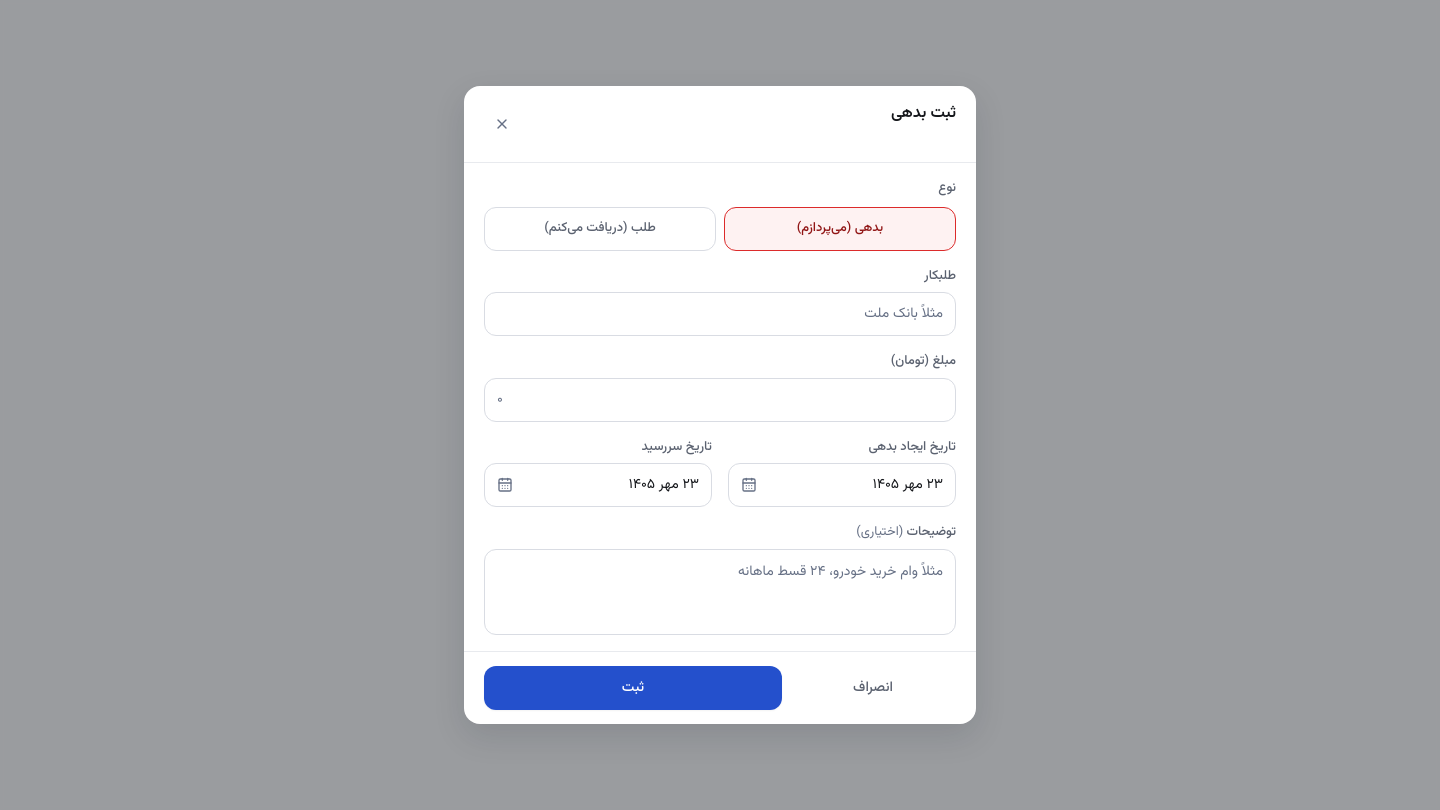
DebtForm › rejects a due date that precedes the issue date
The image size is (1440, 810).
Type "بانک ملت" into the field labelled "طلبکار". click: (720, 314)
box: [484,292,956,336]
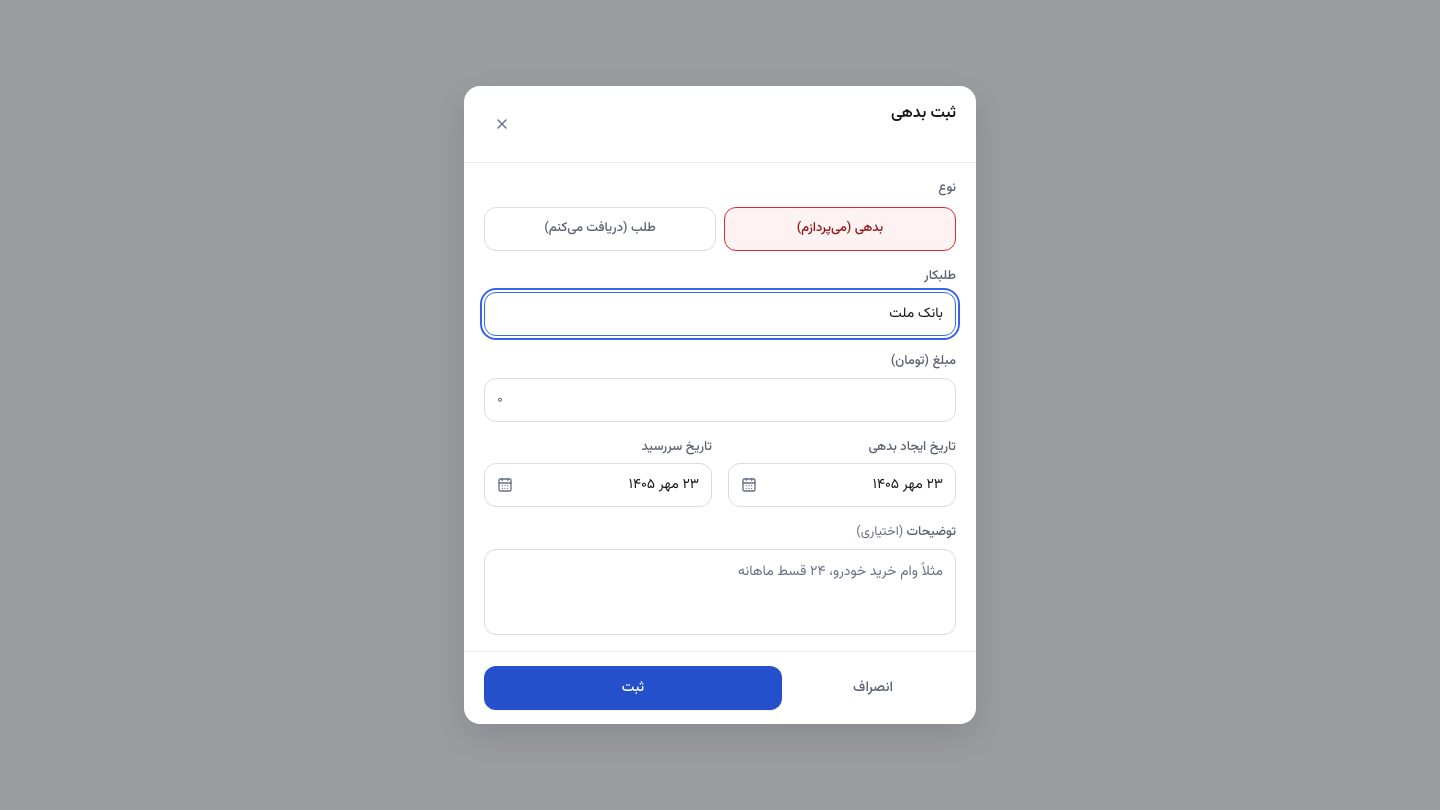
Type "5000000" into the field labelled "مبلغ (تومان)". click: (720, 400)
box: [484,378,956,422]
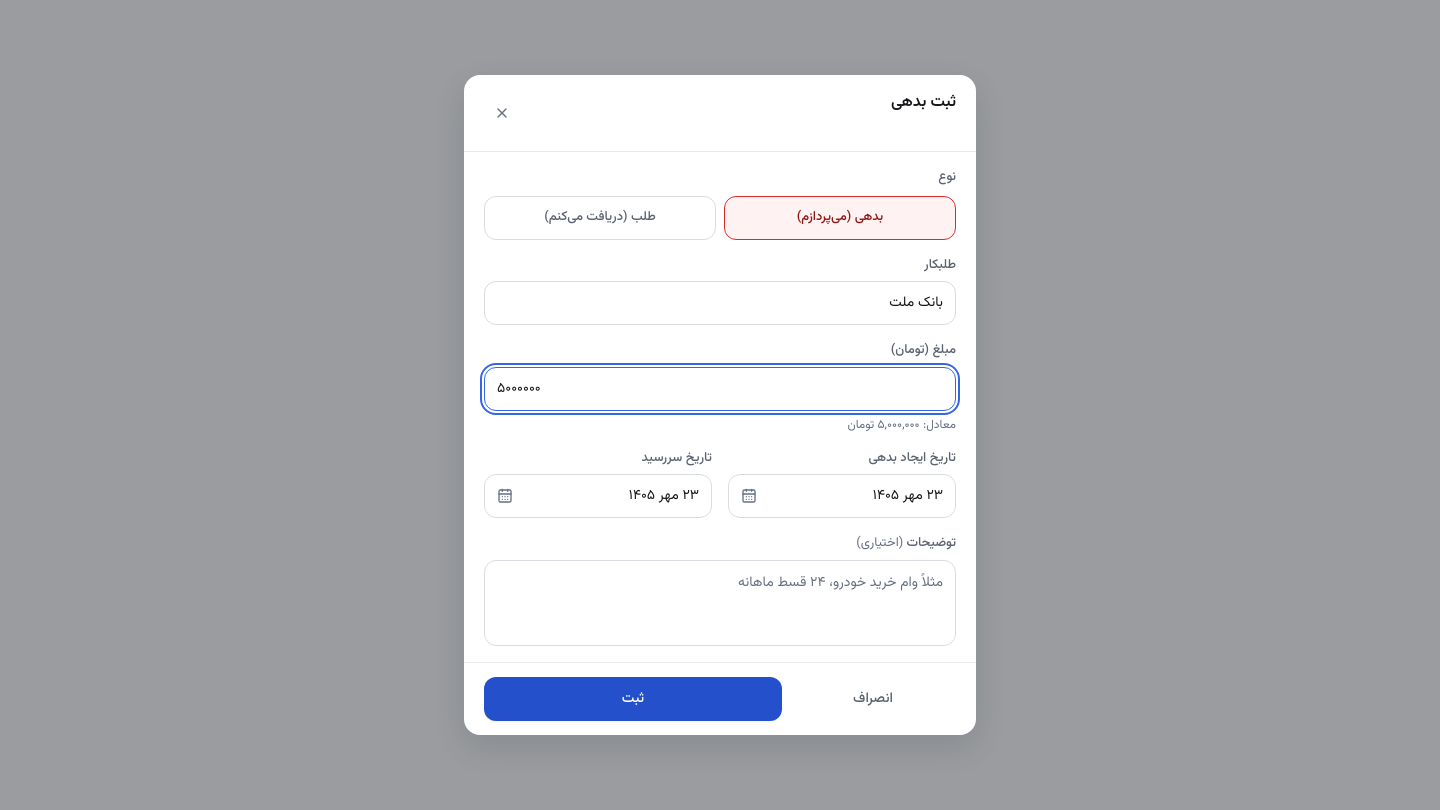
Click the button named "تاریخ سررسید". click: (598, 496)
box: [484,474,712,518]
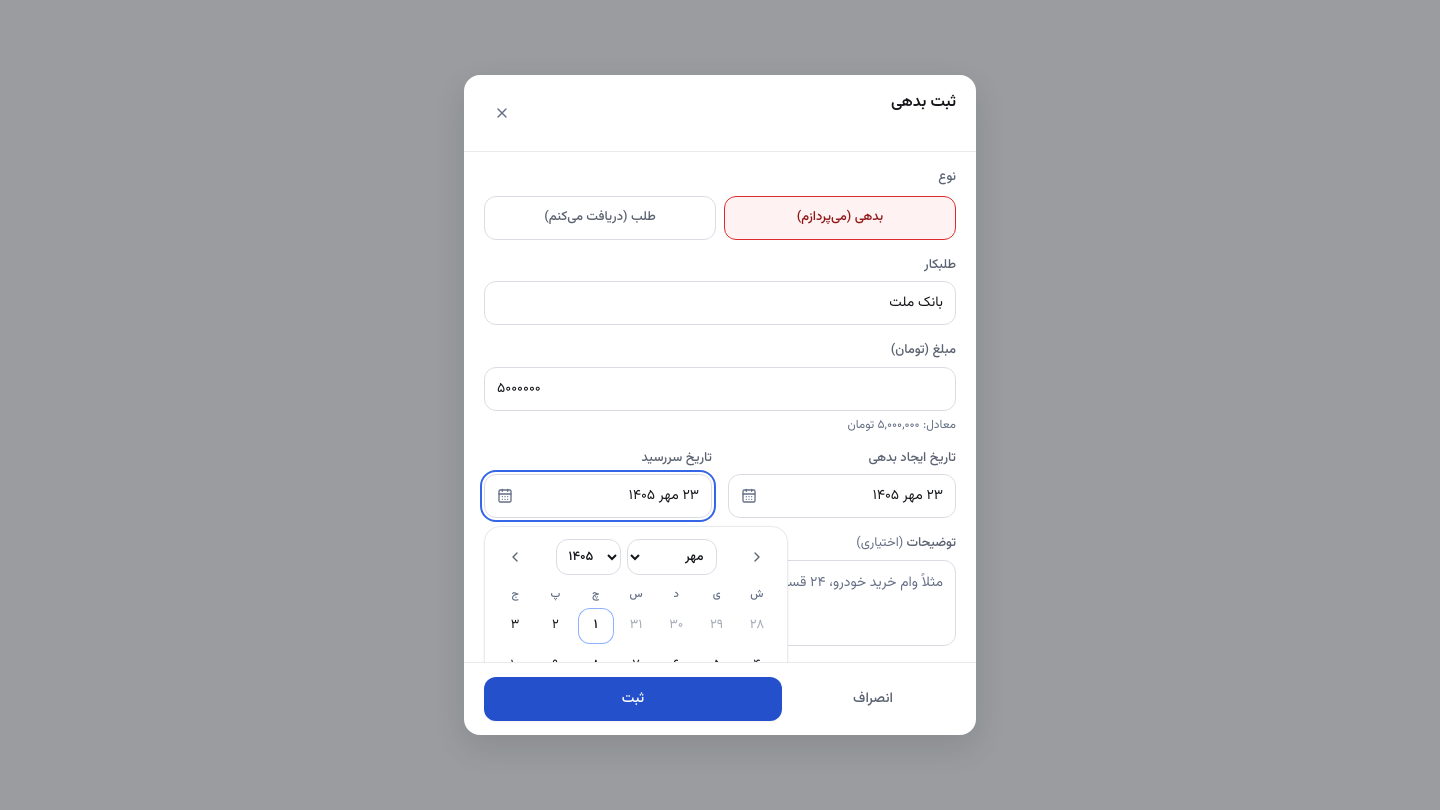
Select "شهریور" in the dropdown named "ماه". click: (672, 557)
box: [626,539,716,575]
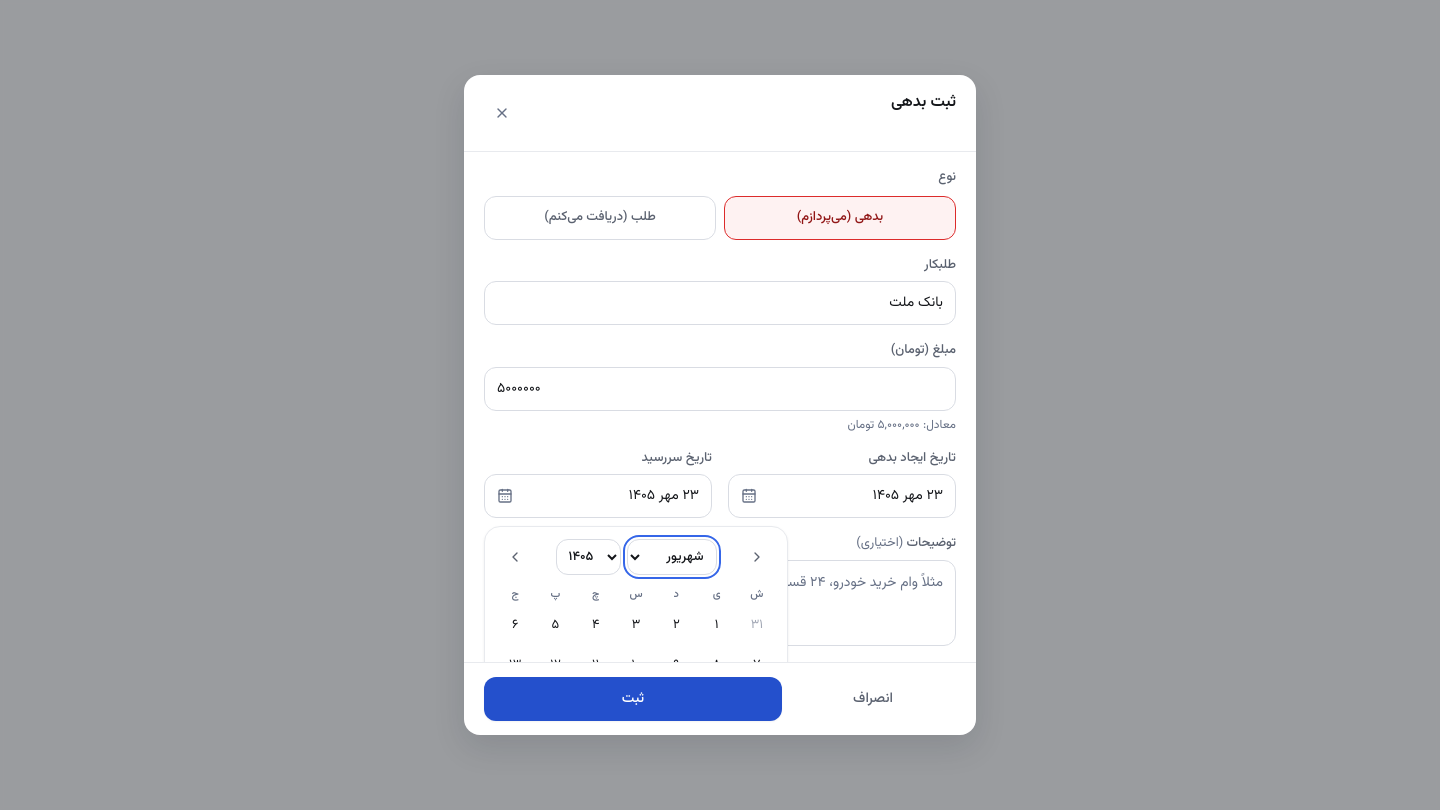
Expected: the button "31" is shown
Click the button "31". click: (757, 626)
box: [739,608,775,644]
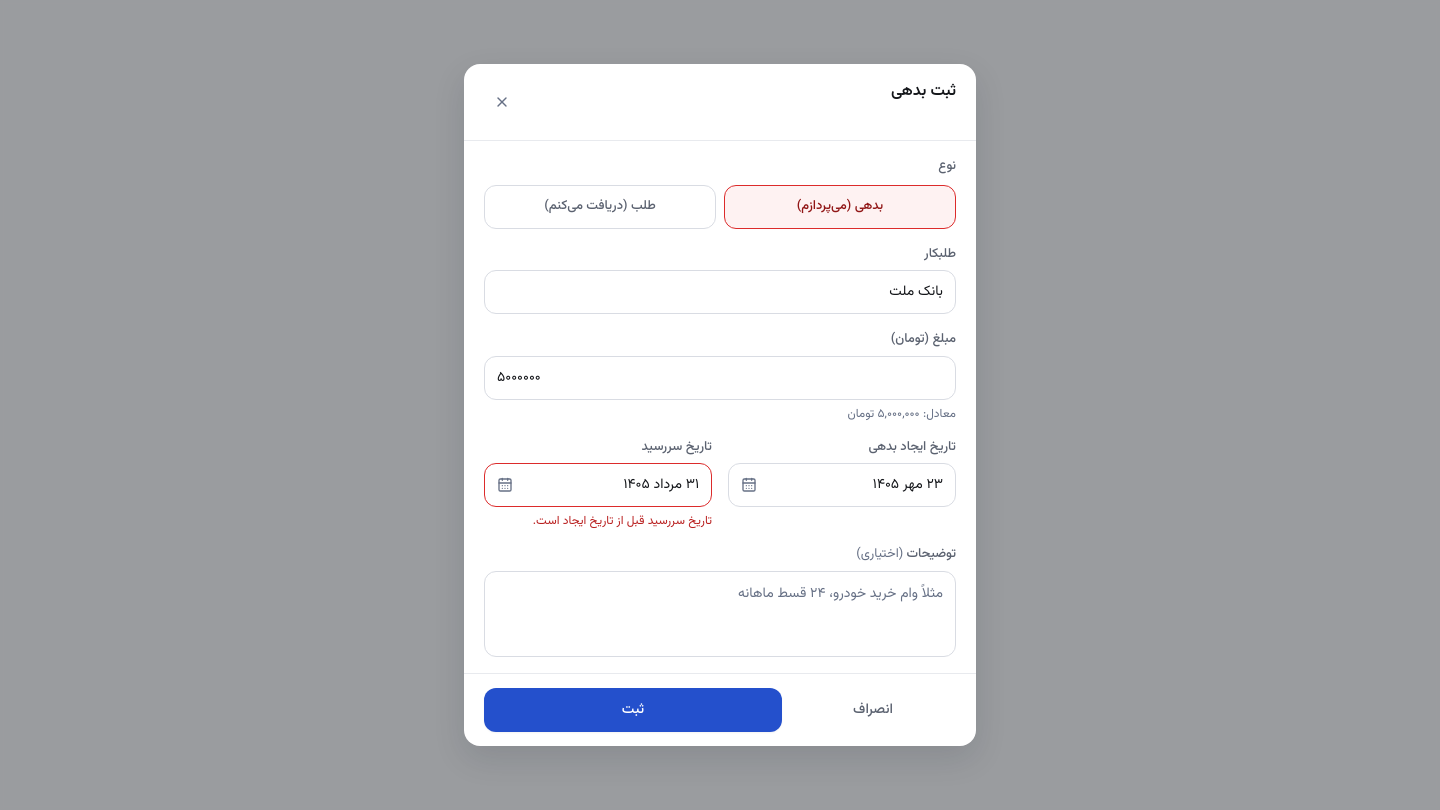
Click the button "ثبت". click: (633, 710)
box: [484,688,782,732]
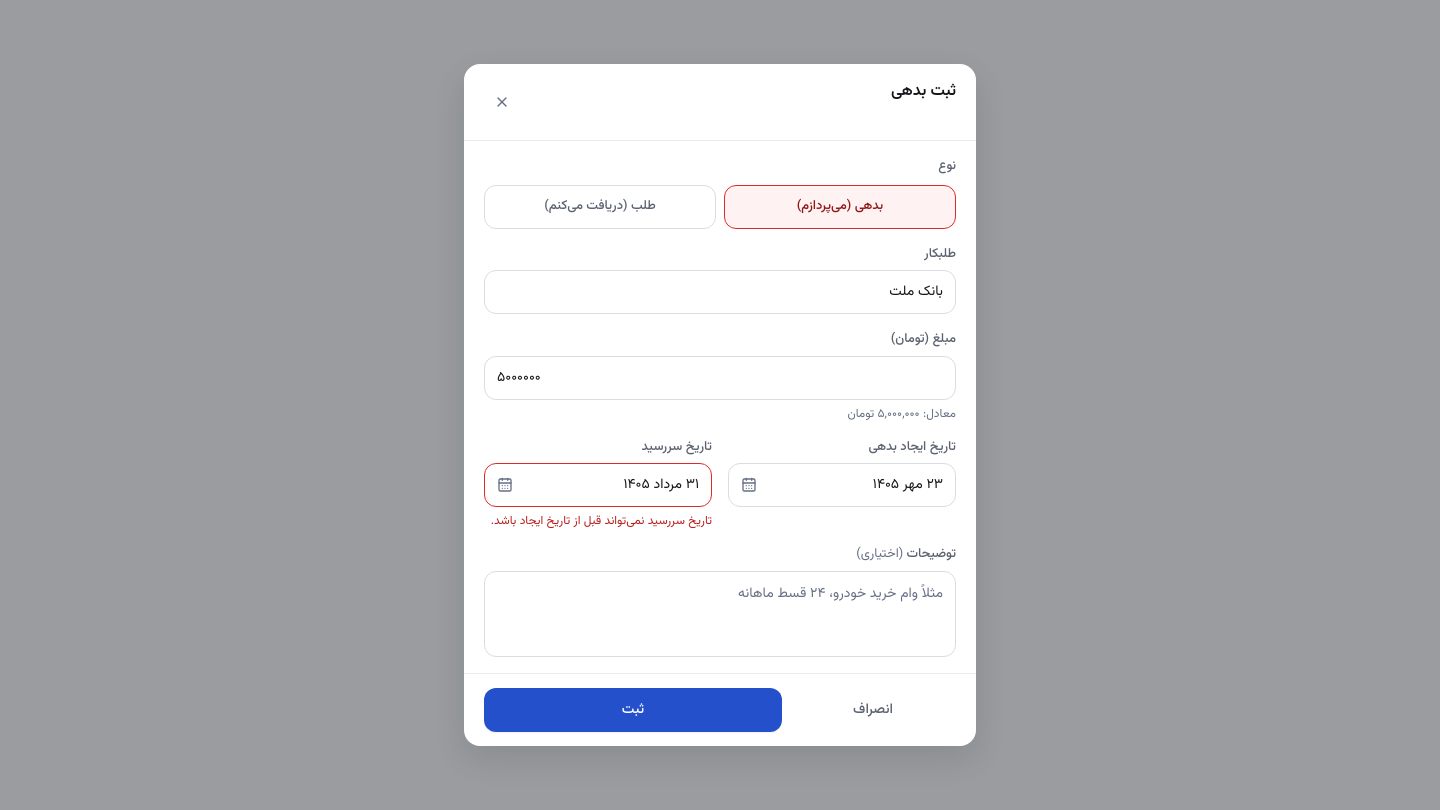
Expected: the text "تاریخ سررسید نمی‌تواند قبل از تاریخ ایجاد باشد." is shown, [484,513,712,529]
